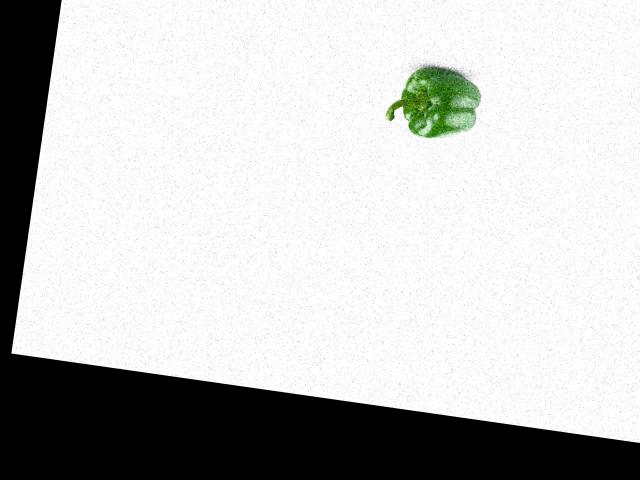bell_pepper: (381, 62, 486, 145)
